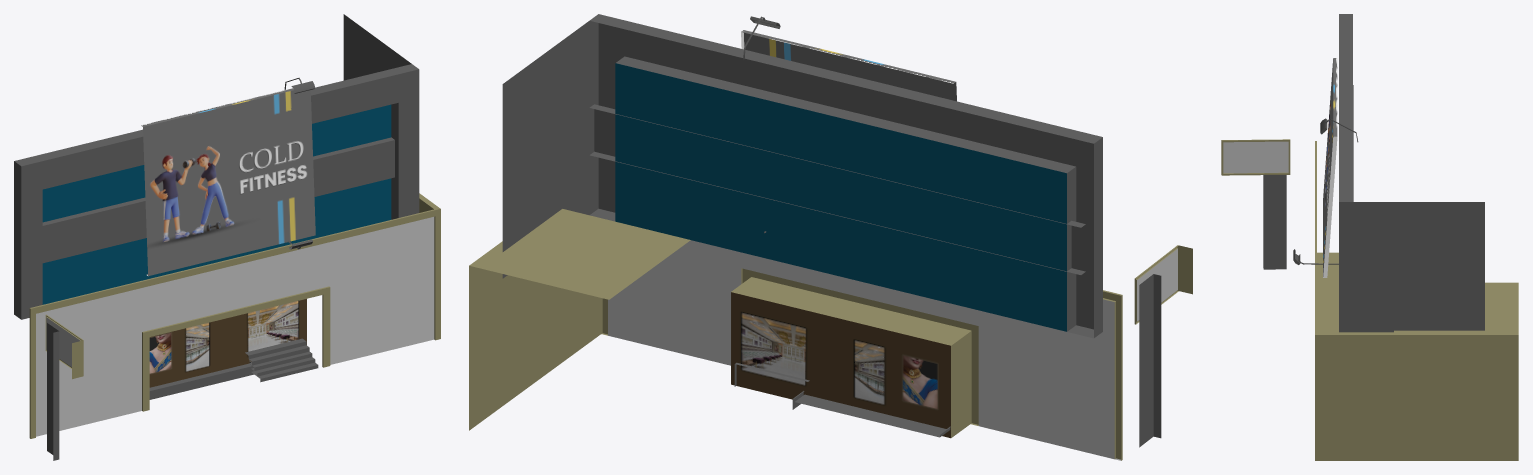
File: Malabar Cult Fitness.fbx
The picture shows the model from 3 angles, left to right: view 1: azimuth 30°, elevation 25°; view 2: azimuth 150°, elevation 25°; view 3: azimuth 270°, elevation 25°; orthographic projection. The views are drawn at different scales.
Parts seen in each view (by area): view 1: pCube2, pCube1, pCube5, pCube3, pCube24, pCube18, pCube4, pCube16; view 2: pCube1, pCube2, pCube5, pCube18, pCube3, pCube16, pCube4; view 3: pCube2, pCube1, pCube16, pCube18, pCube5.
Boxes of the visible parts, <box> form: pCube2: <box>29,193,440,438</box>; pCube1: <box>14,14,419,319</box>; pCube5: <box>141,88,315,276</box>; pCube3: <box>42,137,394,263</box>; pCube24: <box>245,338,318,382</box>; pCube18: <box>47,323,59,460</box>; pCube4: <box>149,360,254,399</box>; pCube16: <box>45,314,83,379</box>; pCube1: <box>502,14,1102,338</box>; pCube2: <box>469,209,1122,460</box>; pCube5: <box>741,30,956,101</box>; pCube18: <box>1139,274,1161,447</box>; pCube3: <box>589,104,1085,274</box>; pCube16: <box>1134,245,1192,324</box>; pCube4: <box>792,391,950,437</box>; pCube2: <box>1315,141,1518,460</box>; pCube1: <box>1339,14,1484,332</box>; pCube16: <box>1221,139,1290,175</box>; pCube18: <box>1263,175,1286,269</box>; pCube5: <box>1323,58,1337,277</box>.
Size of the model in its own units: 35.91 by 23.82 by 22.91.
